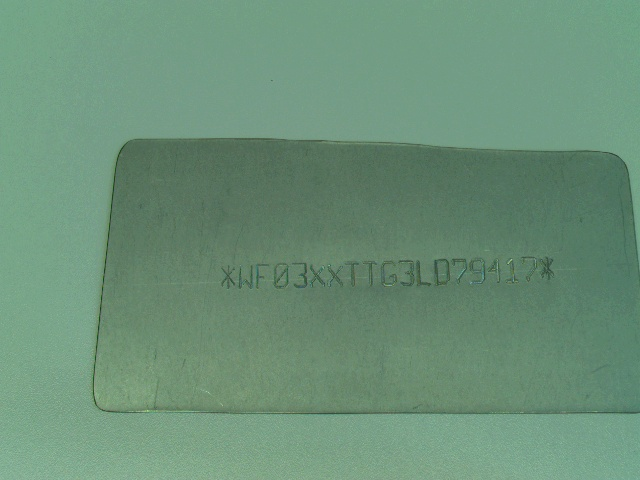0: (271, 261, 291, 291)
1: (504, 256, 522, 285)
3: (396, 258, 415, 289), (290, 261, 309, 290)
4: (486, 256, 502, 284)
7: (450, 257, 470, 287), (523, 254, 539, 284)
9: (469, 256, 487, 286)
d: (434, 257, 451, 288)
f: (255, 262, 270, 290)
g: (379, 259, 397, 289)
l: (415, 256, 432, 288)
t: (344, 260, 361, 288), (361, 259, 378, 287)
w: (236, 262, 255, 289)
x: (325, 261, 345, 288), (308, 262, 326, 289)
